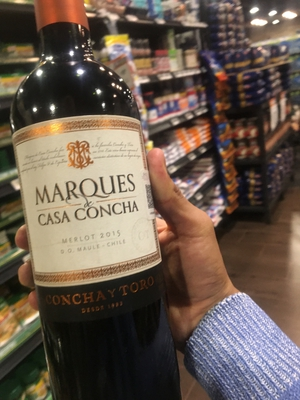marques de casa concha merlot: (1, 14, 184, 393)
